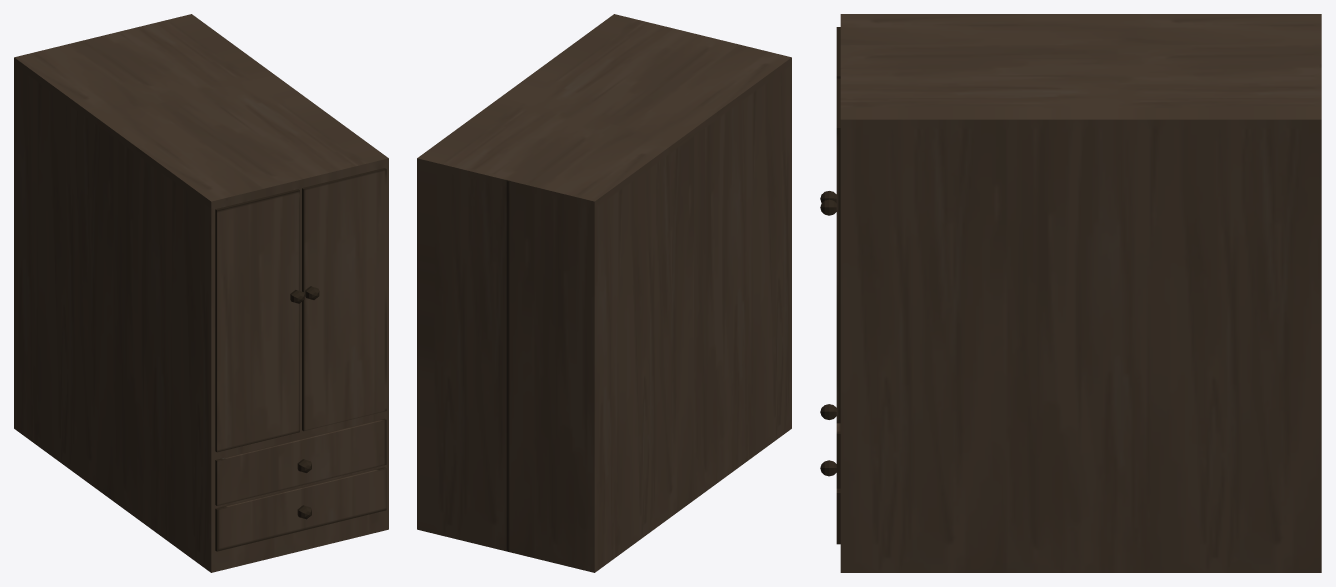
The picture shows the model from 3 angles, left to right: view 1: azimuth 30°, elevation 25°; view 2: azimuth 150°, elevation 25°; view 3: azimuth 270°, elevation 25°; orthographic projection. The views are drawn at different scales.
Visible parts, largest first — view 1: polySurface10; view 2: polySurface10; view 3: polySurface10.
Part boxes in pixels (x1,y1,x2,y2): polySurface10: [14, 14, 388, 572]; polySurface10: [417, 14, 791, 572]; polySurface10: [820, 14, 1321, 572].
Size of the model in its own units: 5.98 by 11.94 by 11.97.
